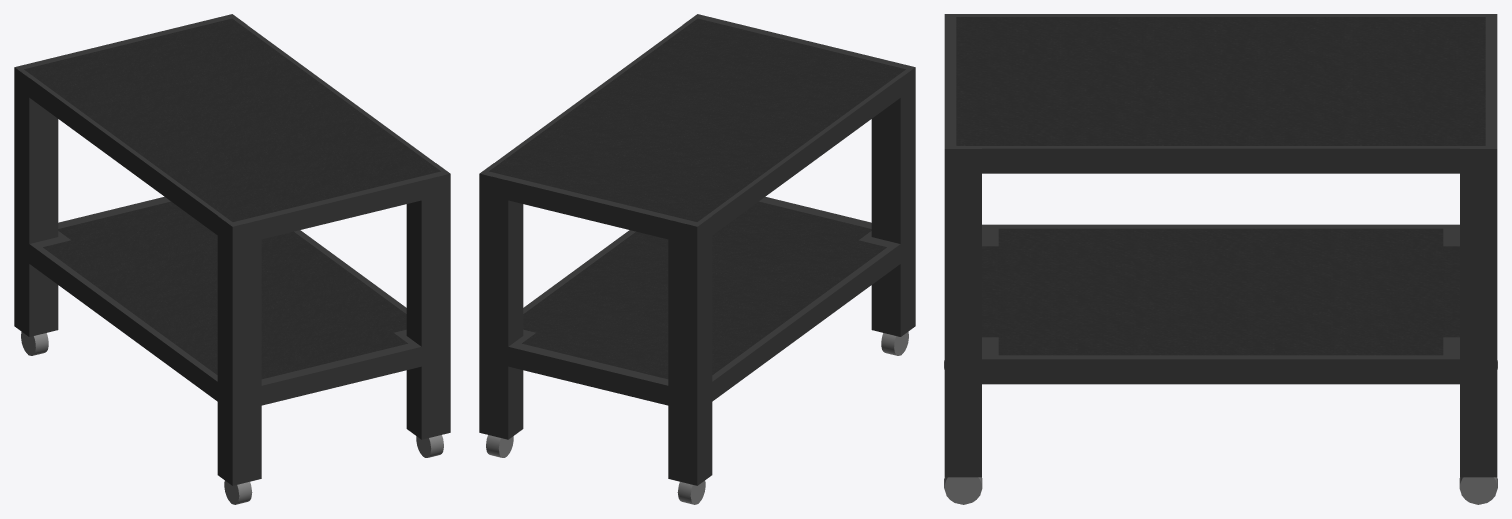
File: cart.glb
3 views of the same model, side by side, from view 1: azimuth 30°, elevation 25°; view 2: azimuth 150°, elevation 25°; view 3: azimuth 270°, elevation 25° (orthographic). The views are drawn at different scales.
Visible parts, largest first — view 1: Cylinder; view 2: Cylinder; view 3: Cylinder.
Part boxes in pixels (x1,y1,x2,y2): Cylinder: [14, 14, 450, 504]; Cylinder: [479, 14, 915, 504]; Cylinder: [944, 14, 1497, 504].
Size of the model in its own units: 2.75 by 3.42 by 4.77.
3 materials, 1 textured.
